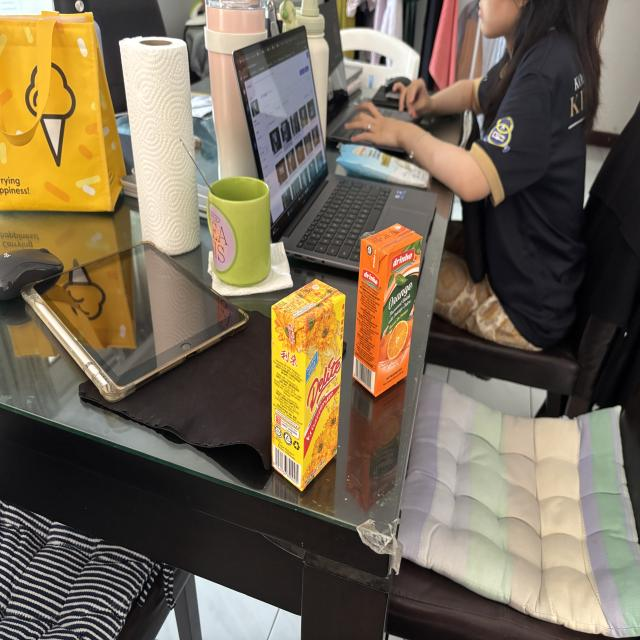drink_carton: (266, 275, 350, 500), (351, 212, 429, 408)
